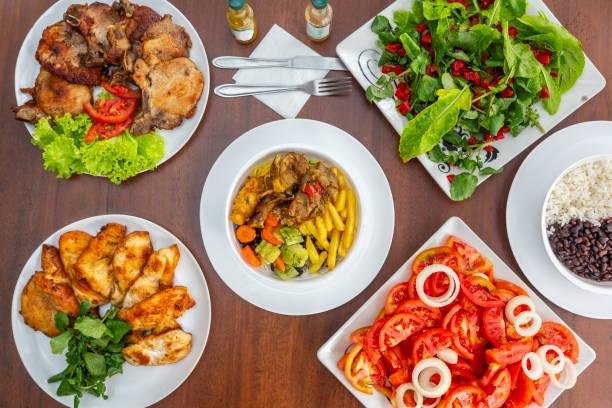Braised Crucian Carp: (340, 0, 605, 199), (317, 218, 597, 405), (12, 212, 211, 408), (198, 118, 390, 316), (14, 1, 209, 181)
